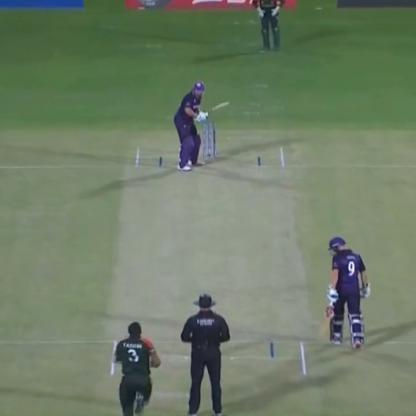bat: (198, 91, 238, 117), (319, 293, 334, 353)
pitch: (96, 145, 318, 403)
